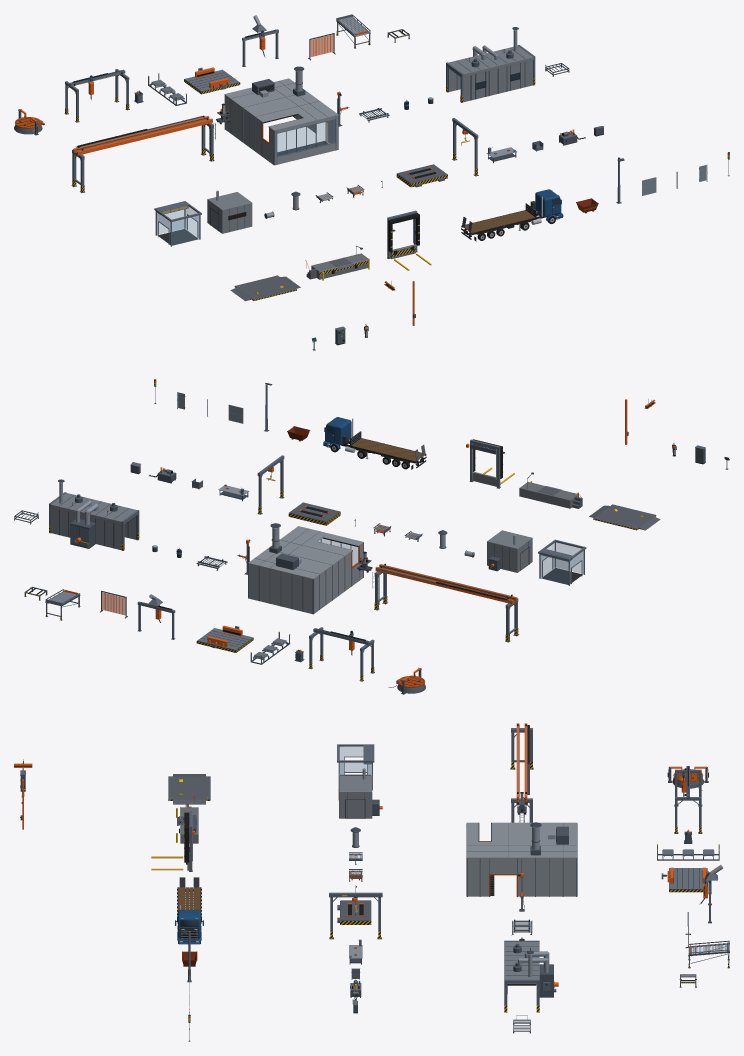
The model's file is plant-kit.glb.
3 renders of one model, top to bottom at view 1: azimuth 30°, elevation 25°; view 2: azimuth 150°, elevation 25°; view 3: azimuth 270°, elevation 25°, orthographic. The views are drawn at different scales.
Visible parts, largest first — view 1: BoothRoof, OvenSouthPanels, BoothWestPanels, CompactOvenBody, BoothGlazing, OvenRoof, CompactBoothGlass, PlatformDeck, BoothSouthPanels, PortalGirder0, TrailerPlanks, DockPlatform; view 2: BoothRoof, BoothNorthPanels, BoothWestPanels, CompactOvenBody, OvenNorthPanels, CompactBoothGlass, OvenRoof, PlatformDeck, DockPlatform, TrailerPlanks, TractorCab, PortalGirder0 (+2 smaller); view 3: BoothEastPanels, BoothRoof, CompactOvenBody, OvenRoof, PlatformDeck, FixtureTop, CompactBoothGlass, JigDeck, TrailerPlanks.
Part boxes in pixels (box(x1,y1,x2,y2)): BoothRoof: box(224, 78, 338, 130); OvenSouthPanels: box(463, 60, 532, 102); BoothWestPanels: box(225, 95, 273, 164); CompactOvenBody: box(207, 192, 252, 233); BoothGlazing: box(277, 120, 335, 156); OvenRoof: box(447, 45, 533, 76); CompactBoothGlass: box(157, 207, 199, 245); PlatformDeck: box(235, 275, 296, 299); BoothSouthPanels: box(275, 115, 337, 164); PortalGirder0: box(77, 118, 212, 155); TrailerPlanks: box(465, 210, 535, 233); DockPlatform: box(311, 253, 368, 279); BoothRoof: box(248, 526, 363, 579); BoothNorthPanels: box(249, 563, 312, 613); BoothWestPanels: box(313, 543, 363, 613); CompactOvenBody: box(487, 530, 532, 572); OvenNorthPanels: box(51, 507, 121, 550); CompactBoothGlass: box(540, 542, 583, 584); OvenRoof: box(50, 493, 137, 524); PlatformDeck: box(593, 504, 655, 528); DockPlatform: box(519, 482, 578, 508); TrailerPlanks: box(351, 438, 422, 461); TractorCab: box(325, 417, 351, 445); PortalGirder0: box(379, 564, 517, 601); BoothEastPanels: box(468, 858, 575, 896); BoothRoof: box(466, 822, 577, 858); CompactOvenBody: box(339, 775, 372, 818); OvenRoof: box(504, 942, 539, 984); PlatformDeck: box(168, 776, 210, 799); FixtureTop: box(669, 868, 707, 888); CompactBoothGlass: box(339, 747, 371, 775); JigDeck: box(340, 900, 370, 920); TrailerPlanks: box(178, 887, 200, 910).
Size of the model in its own units: 70.33 by 8.52 by 77.52.
